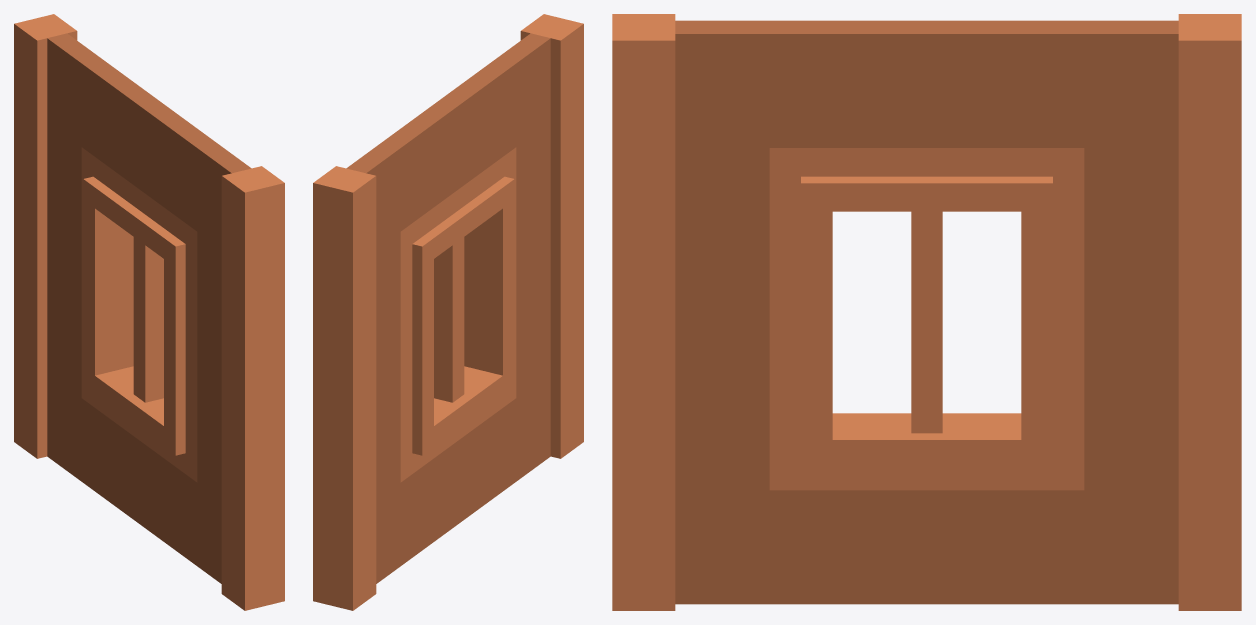
File: wallWoodWindowShutters.fbx
The picture shows the model from 3 angles, left to right: view 1: azimuth 30°, elevation 25°; view 2: azimuth 150°, elevation 25°; view 3: azimuth 270°, elevation 25°; orthographic projection. The views are drawn at different scales.
Visible parts, largest first — view 1: wallWoodWindowShutters; view 2: wallWoodWindowShutters; view 3: wallWoodWindowShutters.
Boxes of the visible parts, x1,y1,x2,y2 form: wallWoodWindowShutters: (14, 14, 284, 610); wallWoodWindowShutters: (313, 14, 583, 610); wallWoodWindowShutters: (612, 14, 1241, 610).
Size of the model in its own units: 1 by 10 by 10.
